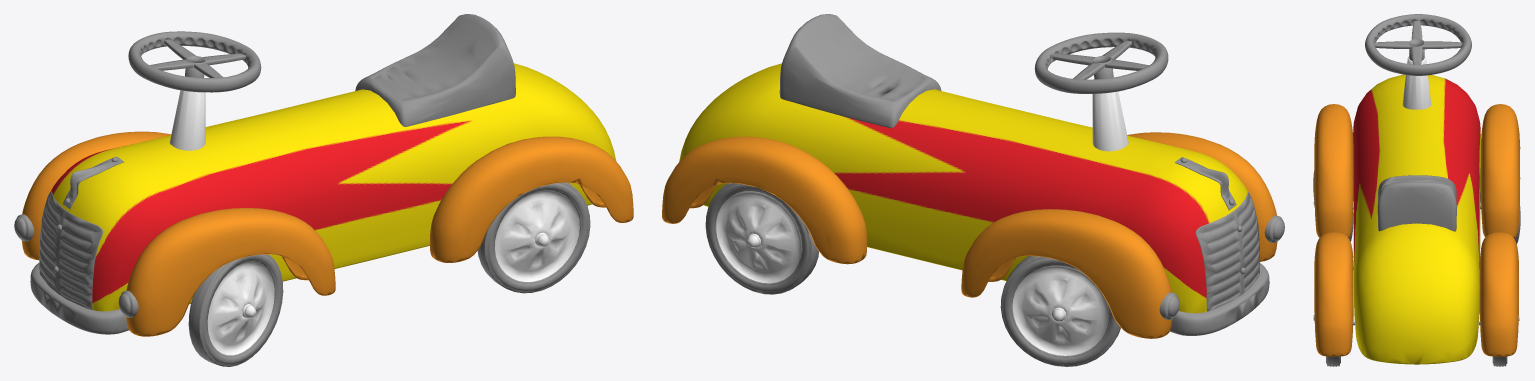
Rendered from ToyCar.FBX.
3 views of the same model, side by side, from view 1: azimuth 30°, elevation 25°; view 2: azimuth 150°, elevation 25°; view 3: azimuth 270°, elevation 25° (orthographic). The views are drawn at different scales.
Visible parts, largest first — view 1: 1, 5, 2, 3, 4; view 2: 1, 5, 2, 3, 4; view 3: 1, 5, 4, 2.
Part boxes in pixels (left/top/right/bottom): 1: left=21, top=63, right=633, bottom=355; 5: left=128, top=14, right=515, bottom=126; 2: left=188, top=182, right=590, bottom=366; 3: left=39, top=156, right=123, bottom=309; 4: left=14, top=39, right=245, bottom=334; 1: left=662, top=63, right=1277, bottom=355; 5: left=779, top=14, right=1168, bottom=128; 2: left=705, top=183, right=1120, bottom=366; 3: left=1175, top=157, right=1259, bottom=311; 4: left=1052, top=40, right=1284, bottom=335; 1: left=1313, top=56, right=1520, bottom=364; 5: left=1365, top=14, right=1471, bottom=231; 4: left=1374, top=20, right=1462, bottom=64; 2: left=1313, top=168, right=1520, bottom=366.
Bounding box in the file's own units: 54.44 × 25.63 × 22.31.
5 materials, 1 textured.
